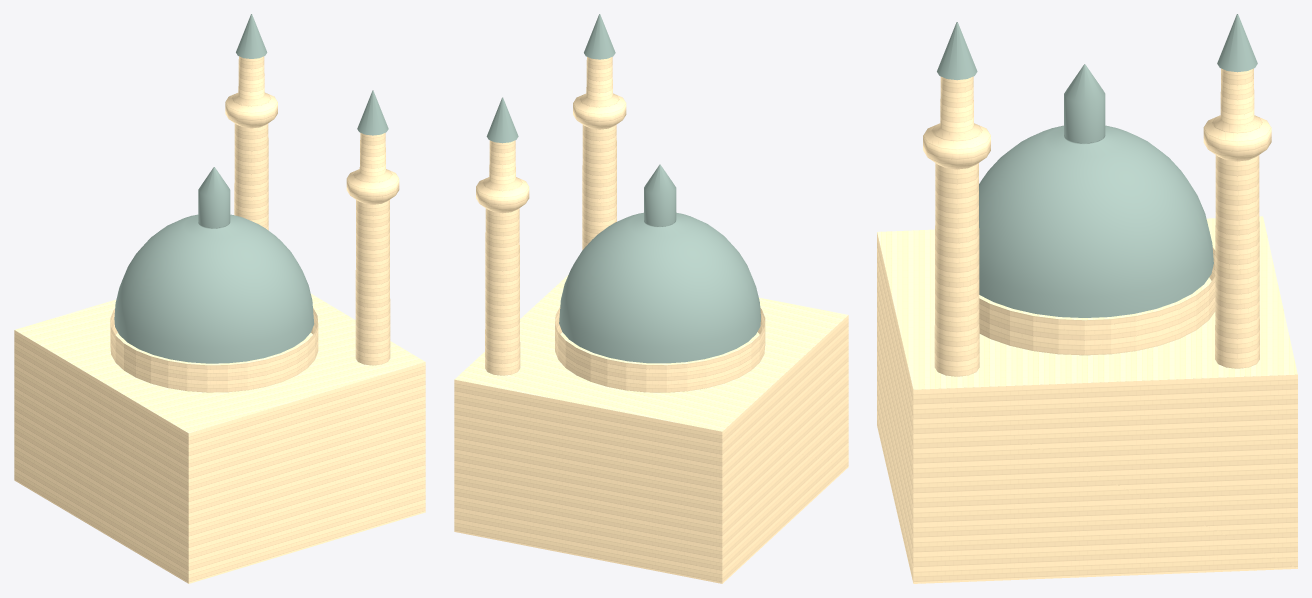
File: landmark-taza-pir-mosque.glb
The picture shows the model from 3 angles, left to right: view 1: azimuth 30°, elevation 25°; view 2: azimuth 150°, elevation 25°; view 3: azimuth 270°, elevation 25°; orthographic projection. The views are drawn at different scales.
Visible parts, largest first — view 1: taza-pir-mosque; view 2: taza-pir-mosque; view 3: taza-pir-mosque.
Part boxes in pixels (left/top/right/bottom): taza-pir-mosque: left=14, top=14, right=425, bottom=583; taza-pir-mosque: left=454, top=14, right=848, bottom=583; taza-pir-mosque: left=877, top=14, right=1297, bottom=583.
Bounding box in the file's own units: 30.19 × 43.76 × 30.95.
2 materials, 1 textured.
